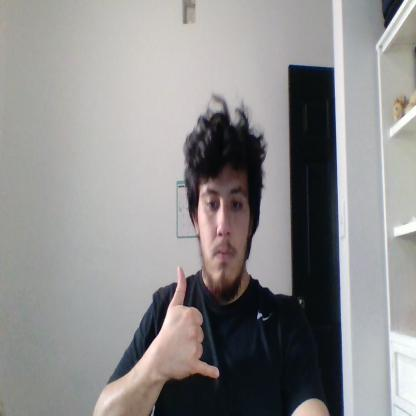Y: (158, 267, 219, 379)
